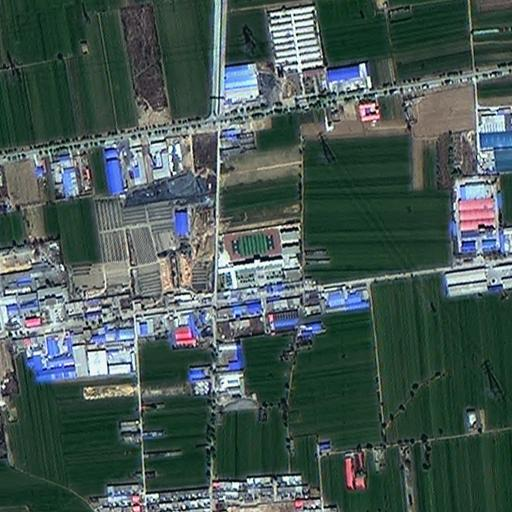school: (214, 218, 302, 294)
